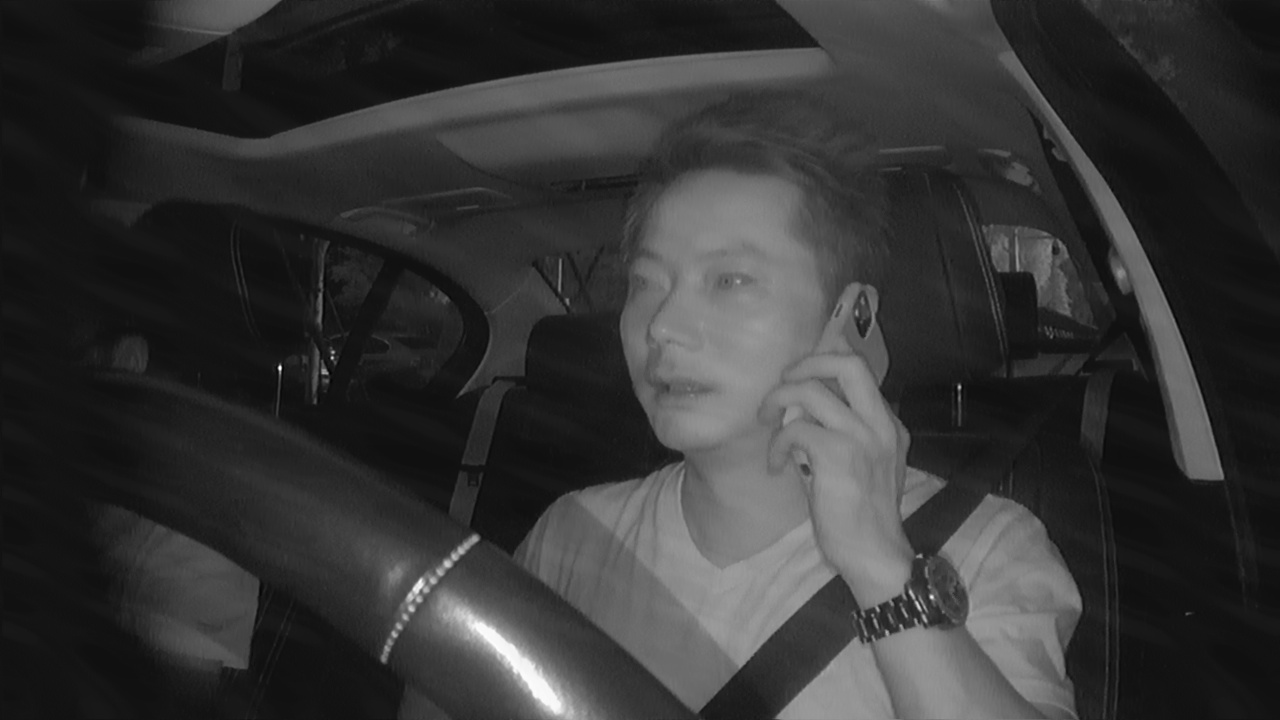hand: (762, 346, 911, 549)
